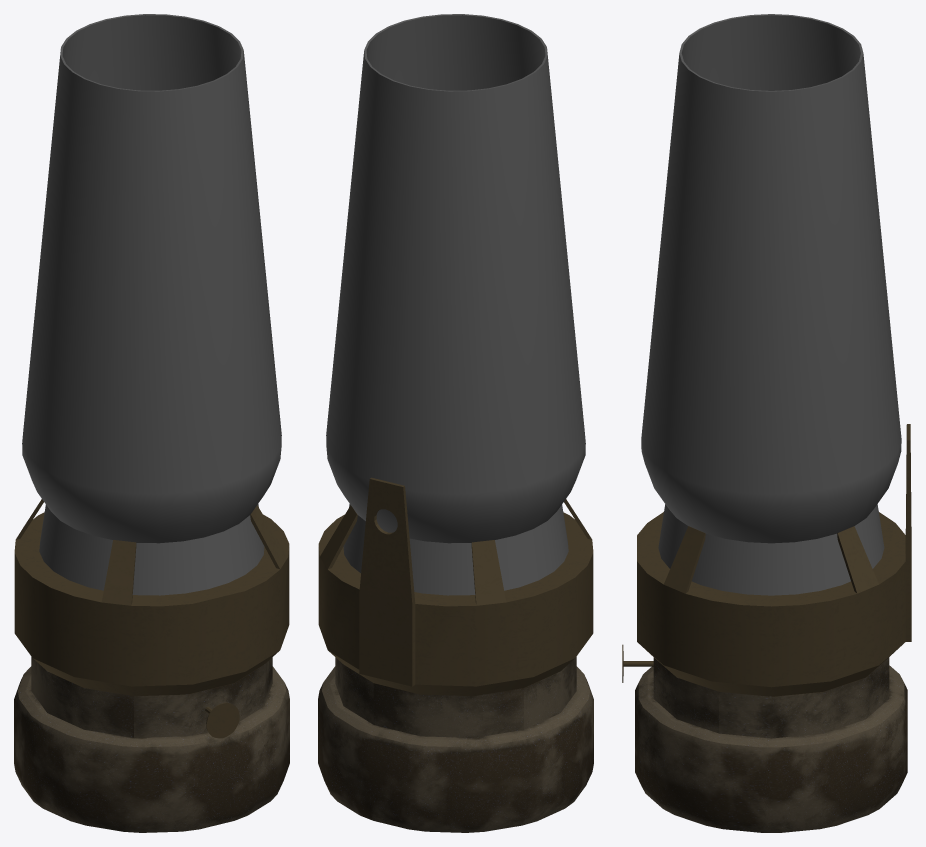
Rendered from pelitatembok.fbx.
The picture shows the model from 3 angles, left to right: view 1: azimuth 30°, elevation 25°; view 2: azimuth 150°, elevation 25°; view 3: azimuth 270°, elevation 25°; orthographic projection.
Parts seen in each view (by area): view 1: kacapelitatembok, pelitatembok; view 2: kacapelitatembok, pelitatembok; view 3: kacapelitatembok, pelitatembok.
Boxes of the visible parts, x1=… form: kacapelitatembok: x1=22, y1=14, x2=281, y2=595; pelitatembok: x1=14, y1=499, x2=289, y2=832; kacapelitatembok: x1=326, y1=14, x2=585, y2=595; pelitatembok: x1=318, y1=477, x2=593, y2=832; kacapelitatembok: x1=641, y1=14, x2=901, y2=595; pelitatembok: x1=622, y1=424, x2=911, y2=832.
Size of the model in its own units: 119 by 349 by 125.
